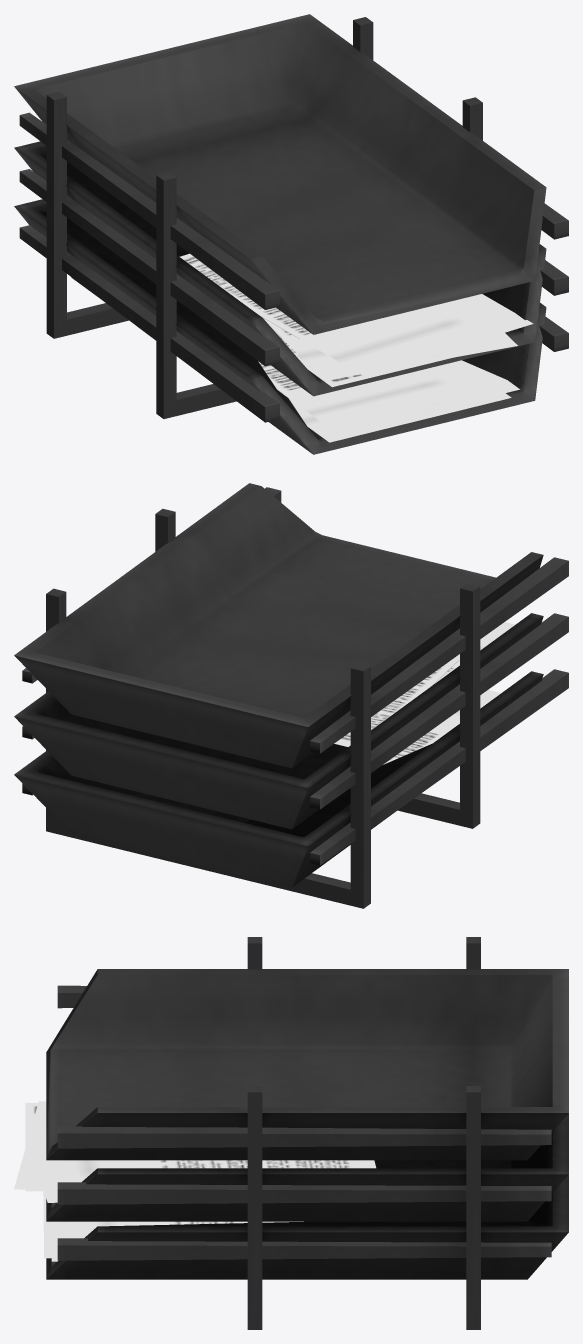
File: document_holder_3.fbx
3 renders of one model, top to bottom at view 1: azimuth 30°, elevation 25°; view 2: azimuth 150°, elevation 25°; view 3: azimuth 270°, elevation 25°, orthographic.
Parts seen in each view (by area): view 1: document_holder_3; view 2: document_holder_3; view 3: document_holder_3.
Part boxes in pixels (<box>): document_holder_3: <box>14,14,568,454</box>; document_holder_3: <box>14,483,568,908</box>; document_holder_3: <box>14,937,568,1329</box>.
Size of the model in its own units: 30.81 by 22.01 by 46.57.
